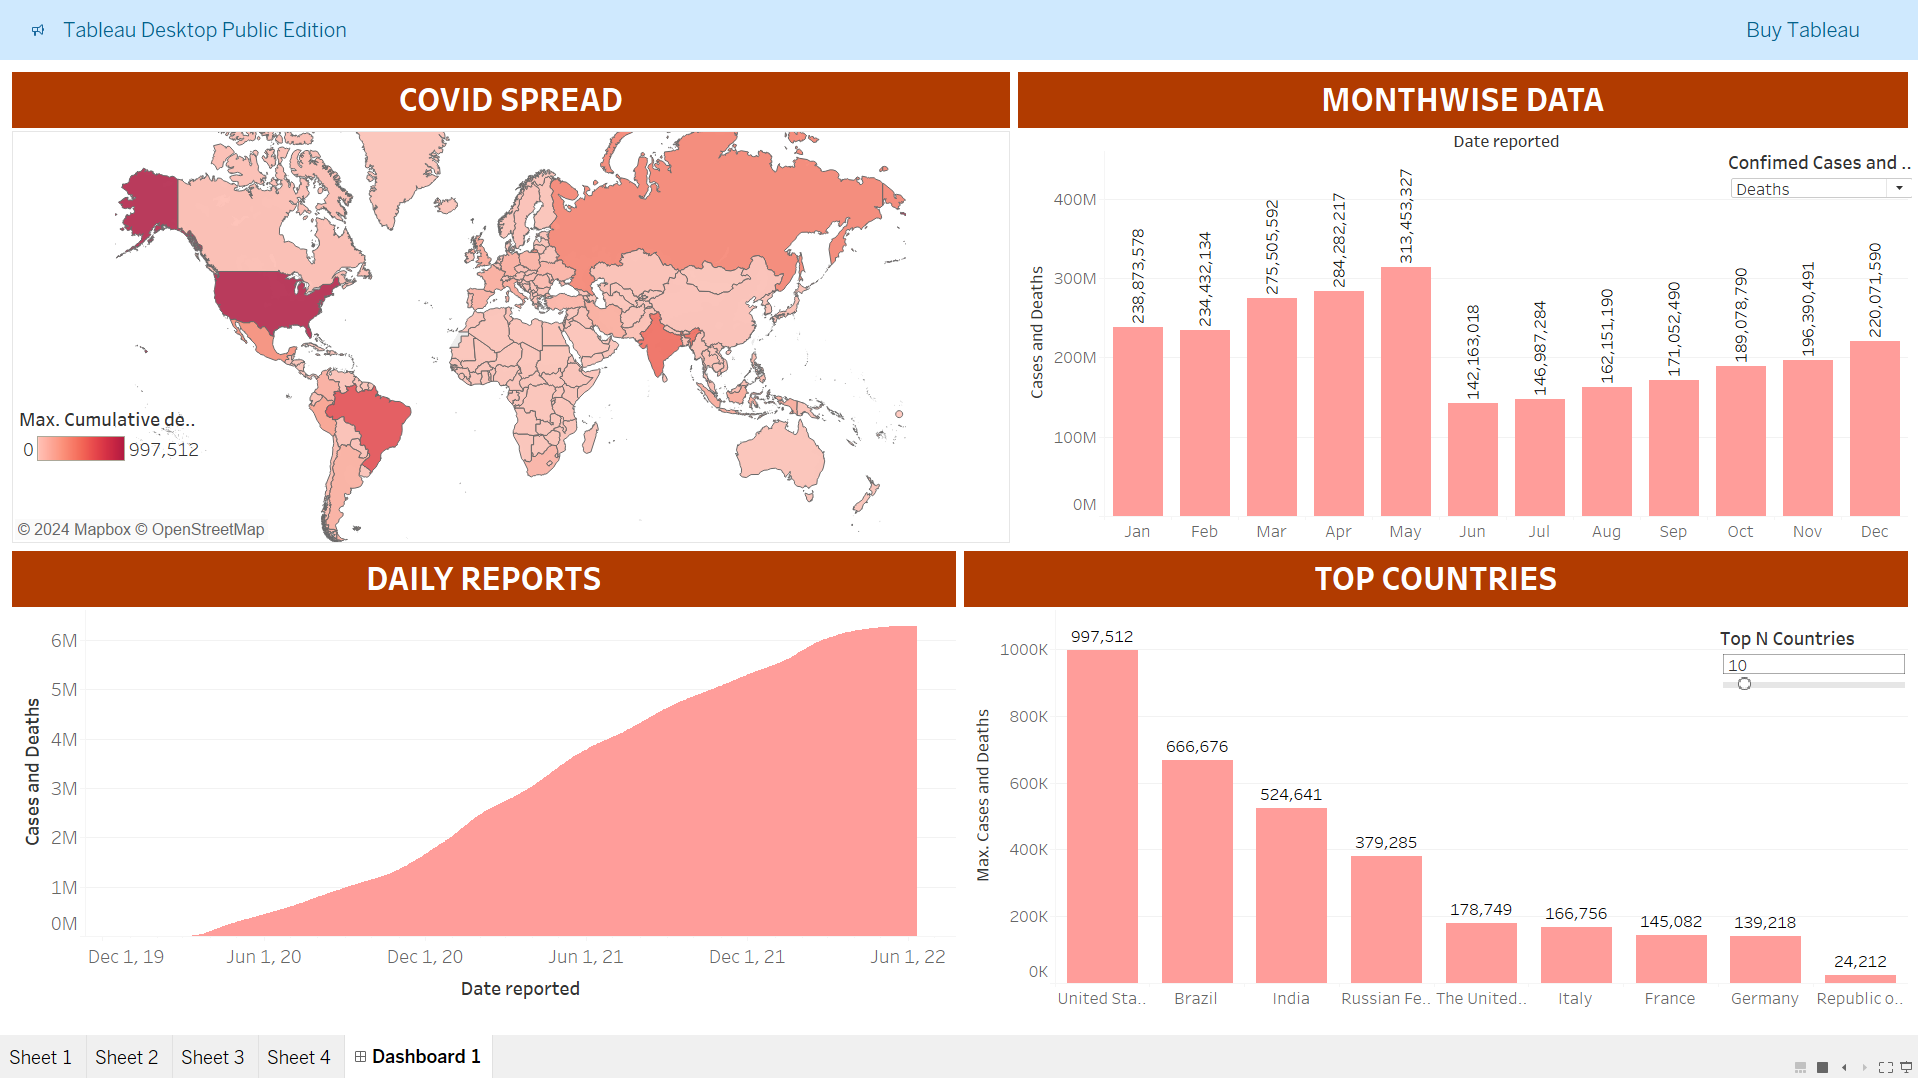

This screenshot's page, from the dashboard's own definition file:
{"tool":"tableau","page":{"name":"Dashboard 1","canvas":[1000,1000],"units":"permille","ordinal":0},"visuals":[{"type":"worksheet","title":"Sheet 1","mark":"Multipolygon","box":[4.9,10.7,523.2,489.2]},{"type":"worksheet","title":"Sheet 3","mark":"Bar","rows":["Calculation_463870784545685506"],"cols":["Date_reported"],"box":[528.1,10.7,466.9,489.2]},{"type":"parameter","param":"[Parameters].[Parameter 1]","box":[900,91.2,98.2,69.7]},{"type":"legend","title":"Sheet 1","param":"[federated.1c1xkvs04dg7ol12wwhiz1yi3skc].[max:Cumulative_deaths:qk]","box":[9.8,355.2,96.3,97.9]},{"type":"worksheet","title":"Sheet 2","mark":"Bar","rows":["Calculation_463870784545685506"],"cols":["Date_reported"],"box":[4.9,500,494.9,489.3]},{"type":"worksheet","title":"Sheet 4","mark":"Automatic","rows":["Calculation_463870784545685506"],"cols":["Name"],"box":[499.9,500,495.2,489.3]},{"type":"parameter","param":"[Parameters].[Parameter 2]","box":[895.7,579.1,98.2,100.5]}]}

Visuals, with their boxes on the dashboard's canvas, which has no fixed pixel size, in thousandths of its width and height (x1, y1, x2, y2). These are canvas units, not pixel positions in the 1918x1078 screenshot, which may show the page scaled, cropped or inside an application window:
"Sheet 1" worksheet (Multipolygon marks): crop(5, 11, 528, 500)
"Sheet 3" worksheet (Bar marks): crop(528, 11, 995, 500)
parameter: crop(900, 91, 998, 161)
"Sheet 1" legend: crop(10, 355, 106, 453)
"Sheet 2" worksheet (Bar marks): crop(5, 500, 500, 989)
"Sheet 4" worksheet: crop(500, 500, 995, 989)
parameter: crop(896, 579, 994, 680)
